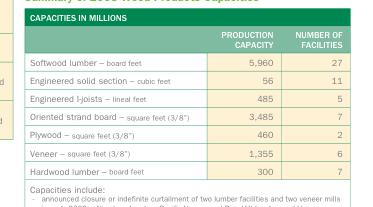table: (29, 29, 341, 175)
table column: (29, 29, 204, 175), (204, 29, 283, 175), (283, 29, 341, 175)
table column header: (29, 29, 341, 53)
table row: (29, 29, 341, 53), (29, 53, 341, 71), (29, 71, 341, 89), (29, 89, 341, 107), (29, 107, 341, 125), (29, 125, 341, 143), (29, 143, 341, 161), (29, 161, 341, 175)
